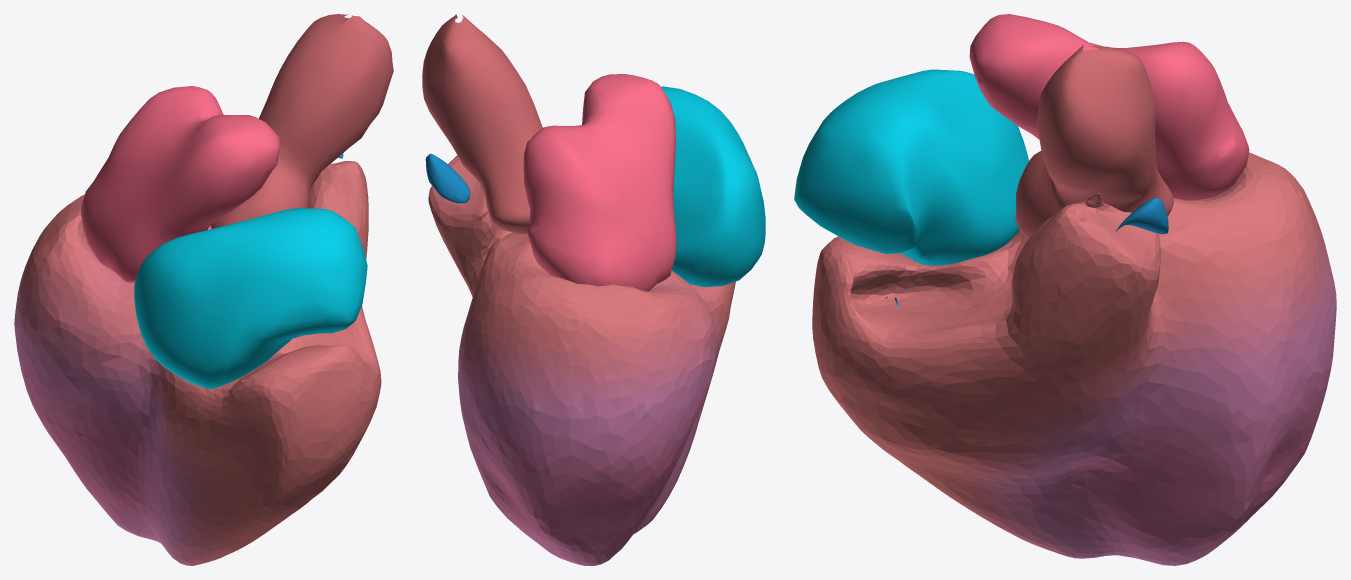
File: frame_25.glb
The picture shows the model from 3 angles, left to right: view 1: azimuth 30°, elevation 25°; view 2: azimuth 150°, elevation 25°; view 3: azimuth 270°, elevation 25°; orthographic projection. The views are drawn at different scales.
Visible parts, largest first — view 1: Renderer Node; view 2: Renderer Node; view 3: Renderer Node.
Part boxes in pixels (left/top/right/bottom): Renderer Node: left=14, top=14, right=393, bottom=565; Renderer Node: left=422, top=14, right=765, bottom=565; Renderer Node: left=794, top=14, right=1336, bottom=565.
Bounding box in the file's own units: 100 × 153 × 123.
